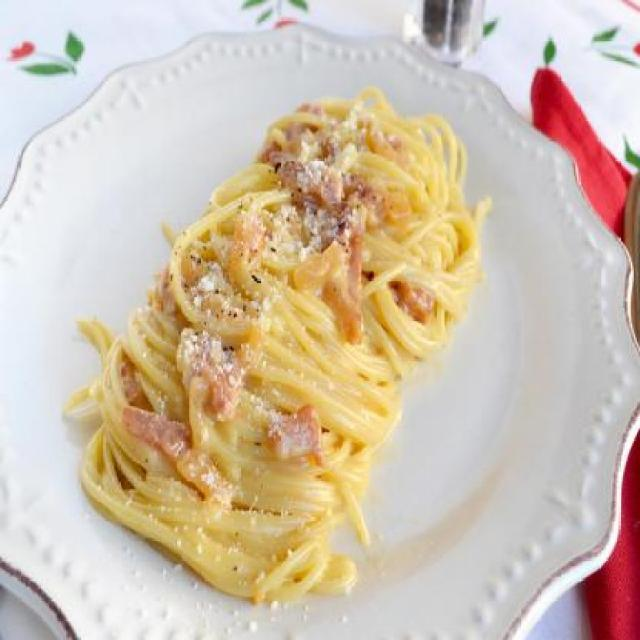Pasta with carbonara sauce: (49, 83, 534, 602)
